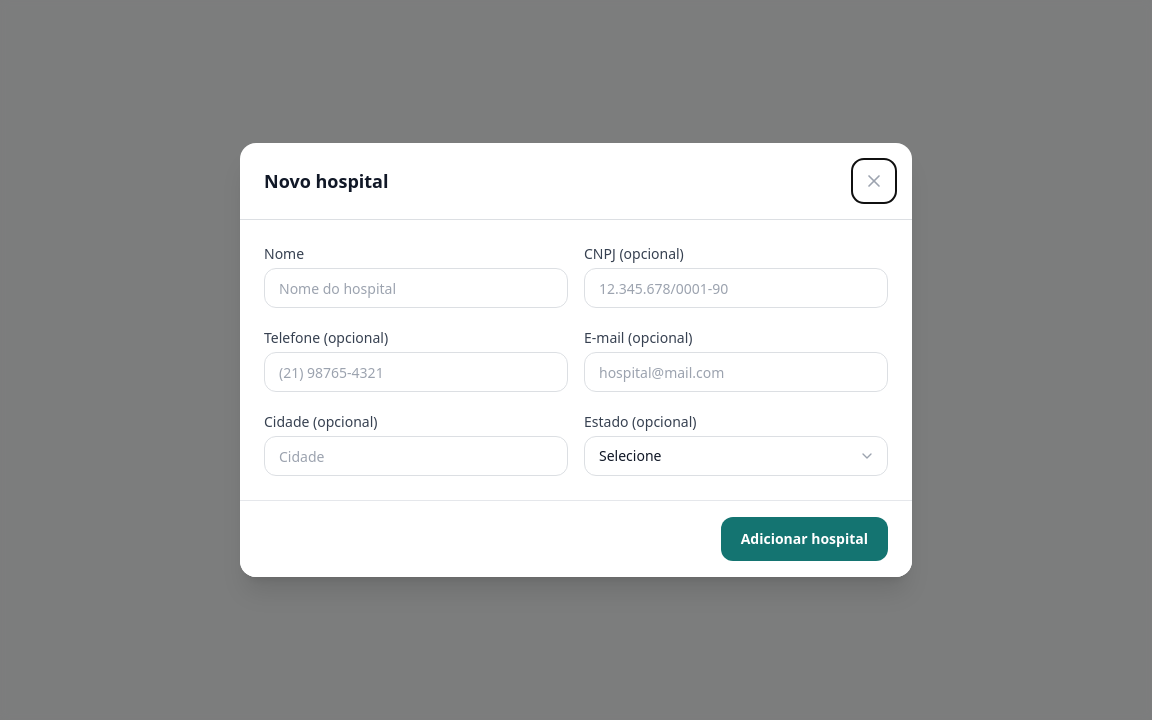
Test: modal de cadastro — hospital › mostra a mensagem de erro quando a criação falha
The width and height of the screenshot is (1152, 720).
Step 1. Type "Teste Ltda" into the field with placeholder "Nome do hospital" → (416, 288), box [264, 268, 568, 308]
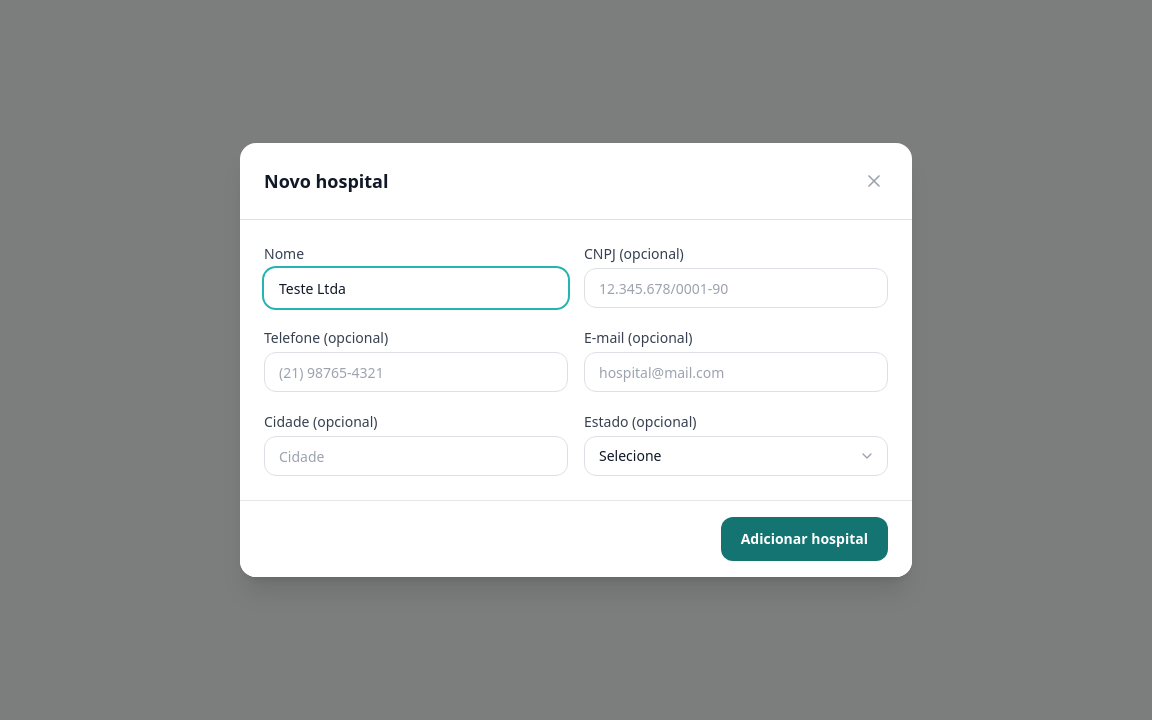
Step 2. Click the button "Adicionar hospital" → (804, 539), box [721, 517, 888, 561]
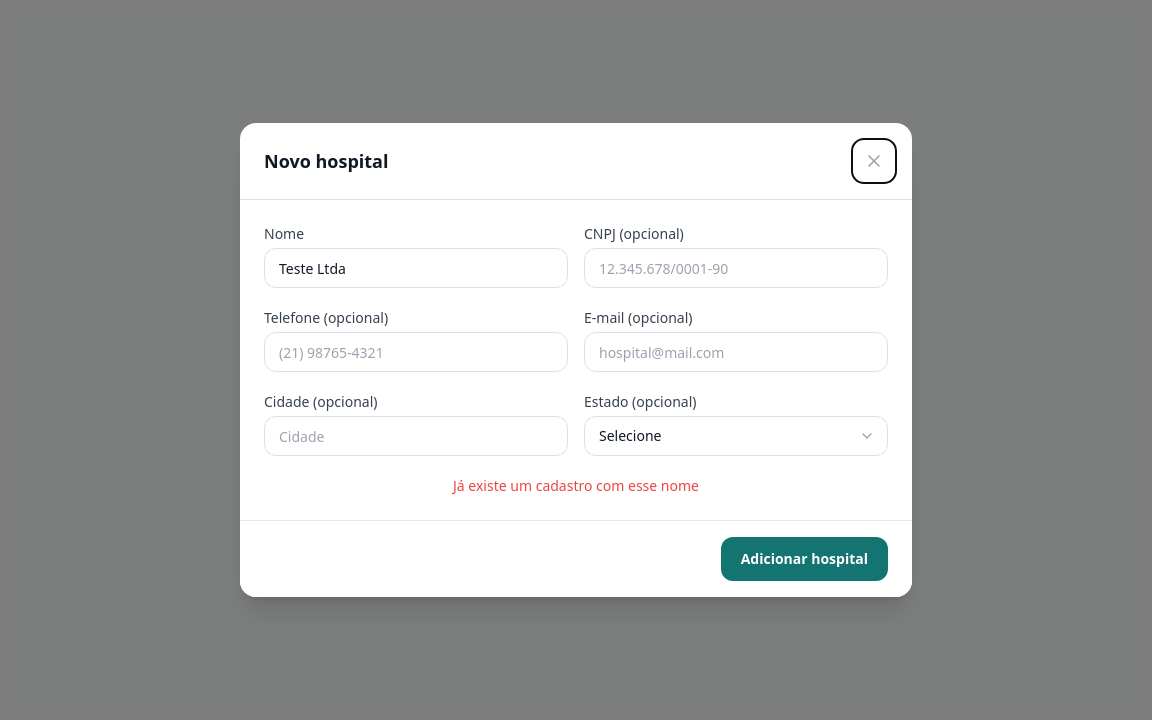
Result: the text "Já existe um cadastro com esse nome" is shown at [453, 476, 699, 495]
